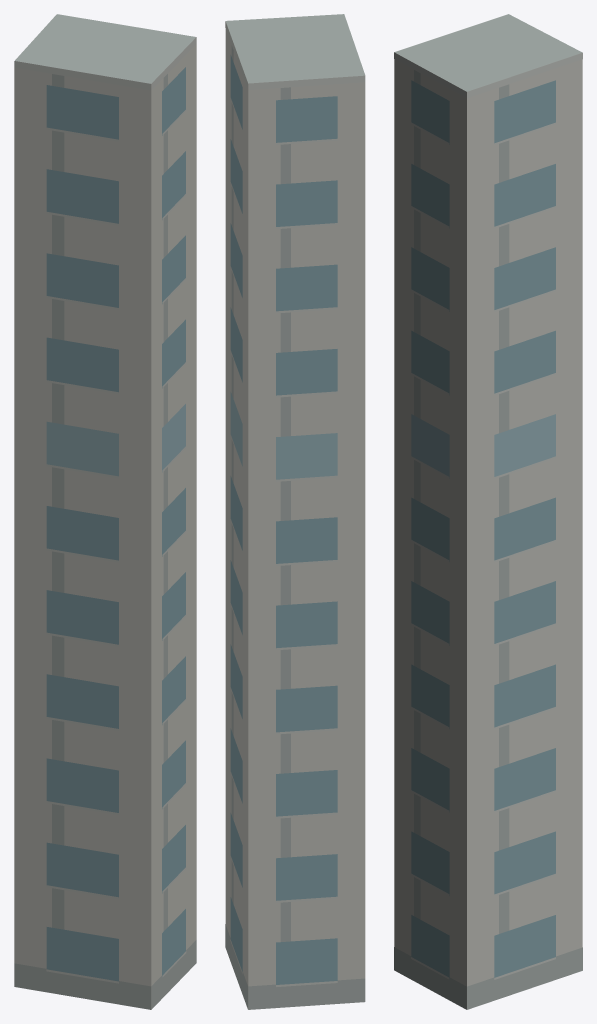
The model's file is survey-upis-32725028.glb.
3 renders of one model, left to right at view 1: azimuth 30°, elevation 25°; view 2: azimuth 150°, elevation 25°; view 3: azimuth 270°, elevation 25°, orthographic.
Parts seen in each view (by area): view 1: survey-upis-32725028.tmp; view 2: survey-upis-32725028.tmp; view 3: survey-upis-32725028.tmp.
Part boxes in pixels (x1=…): survey-upis-32725028.tmp: x1=14, y1=14, x2=196, y2=1009; survey-upis-32725028.tmp: x1=225, y1=14, x2=365, y2=1009; survey-upis-32725028.tmp: x1=394, y1=14, x2=582, y2=1009.
Size of the model in its own units: 6.11 by 33.55 by 6.26.
